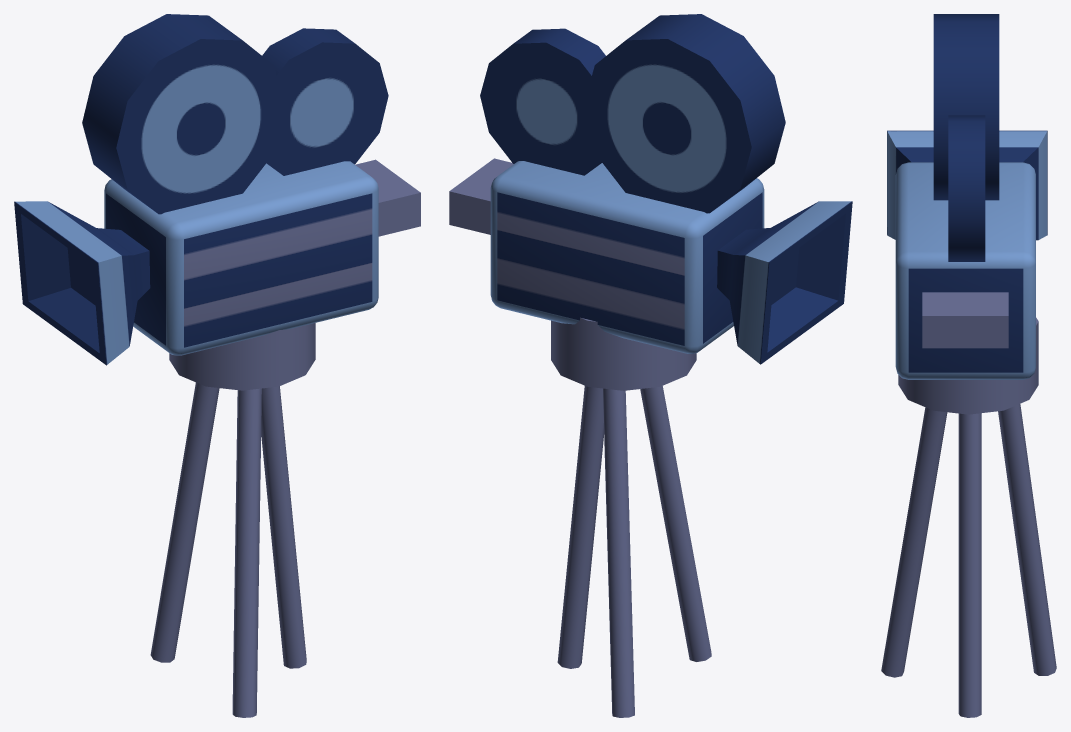
Rendered from GRP_PRMC_Camera.FBX.
3 views of the same model, side by side, from view 1: azimuth 30°, elevation 25°; view 2: azimuth 150°, elevation 25°; view 3: azimuth 270°, elevation 25° (orthographic). The views are drawn at different scales.
Parts seen in each view (by area): view 1: PRMC_Camera01, PRMC_Camera02; view 2: PRMC_Camera01, PRMC_Camera02; view 3: PRMC_Camera01, PRMC_Camera02.
Part boxes in pixels (bbox=[...]): PRMC_Camera01: bbox=[14, 14, 420, 365]; PRMC_Camera02: bbox=[150, 323, 315, 717]; PRMC_Camera01: bbox=[449, 14, 852, 364]; PRMC_Camera02: bbox=[551, 317, 711, 717]; PRMC_Camera01: bbox=[887, 14, 1047, 379]; PRMC_Camera02: bbox=[881, 317, 1056, 717].
Bounding box in the file's own units: 1.62 × 3.02 × 0.7508.
